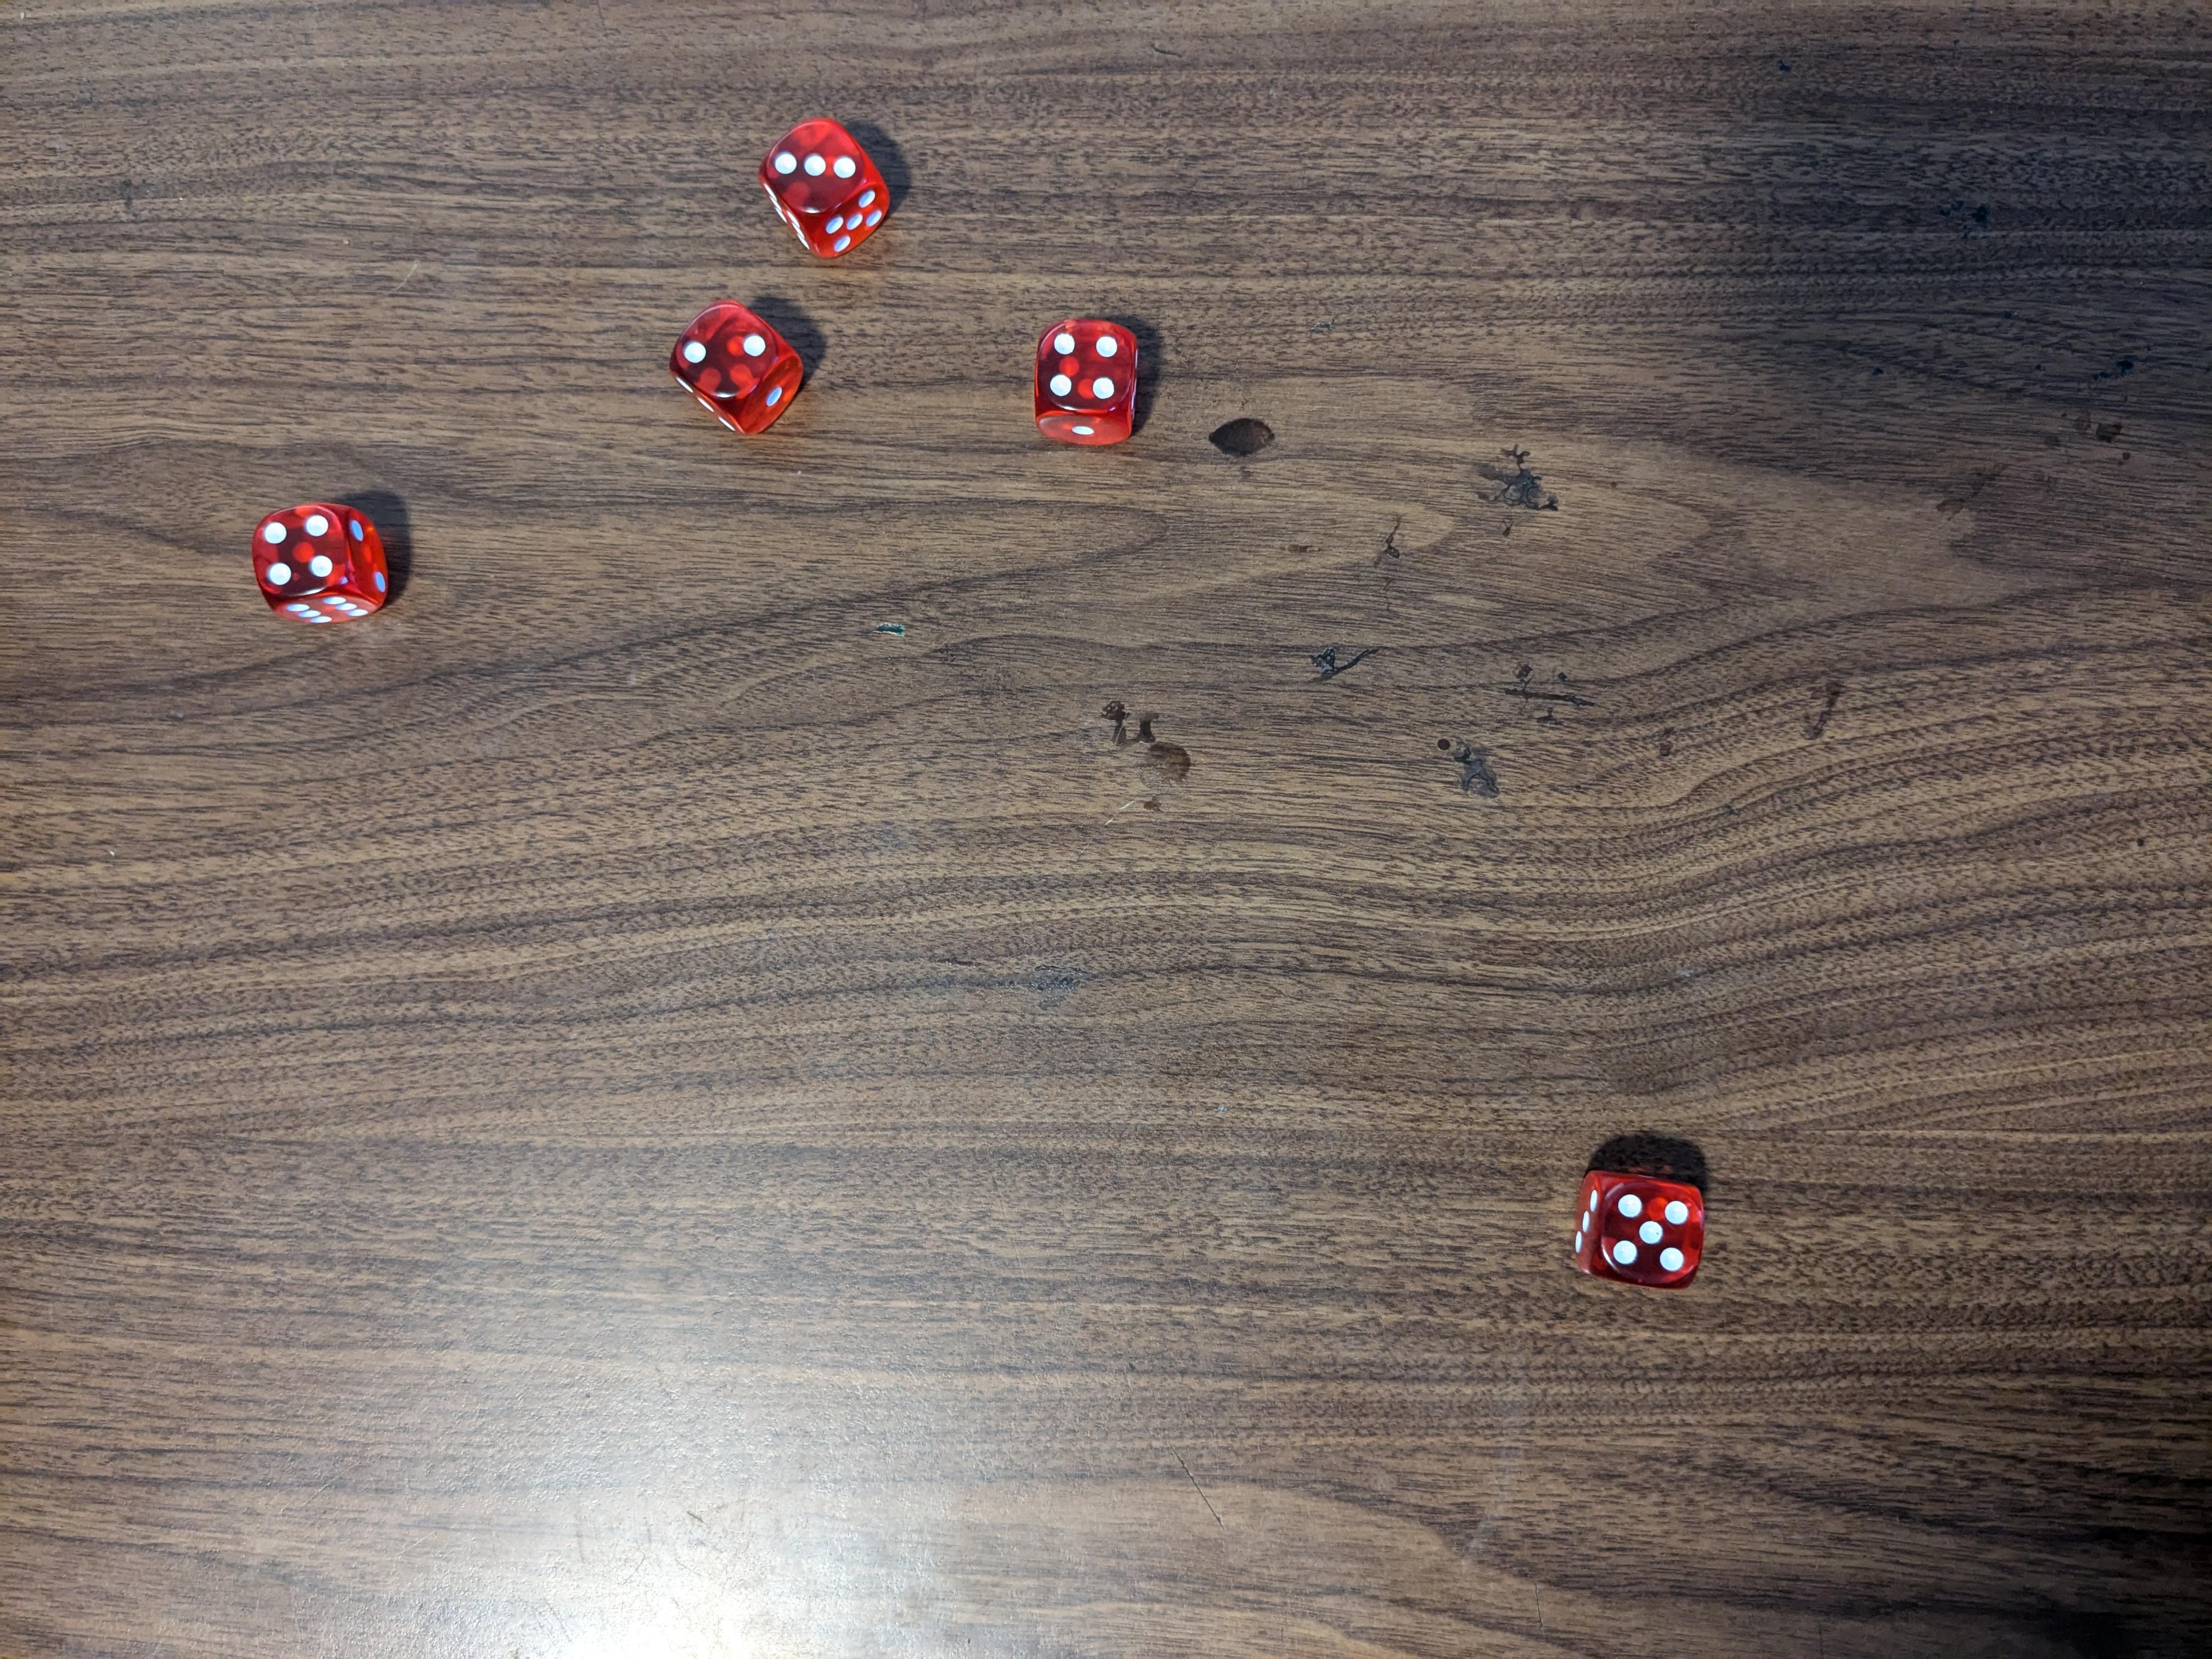five: (1573, 1173, 1717, 1290)
four: (247, 500, 401, 633), (1026, 322, 1144, 448)
three: (752, 112, 899, 261)
two: (672, 308, 808, 446)
